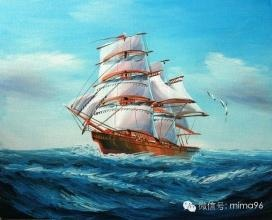bird: (204, 85, 226, 106), (221, 99, 236, 120)
fanchuan: (63, 24, 209, 155)
